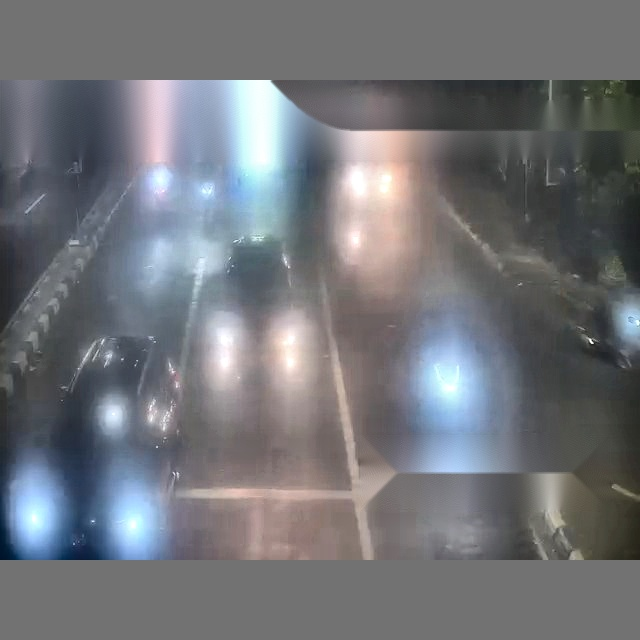Bis: (173, 81, 313, 244)
Mobil: (28, 336, 180, 559)
